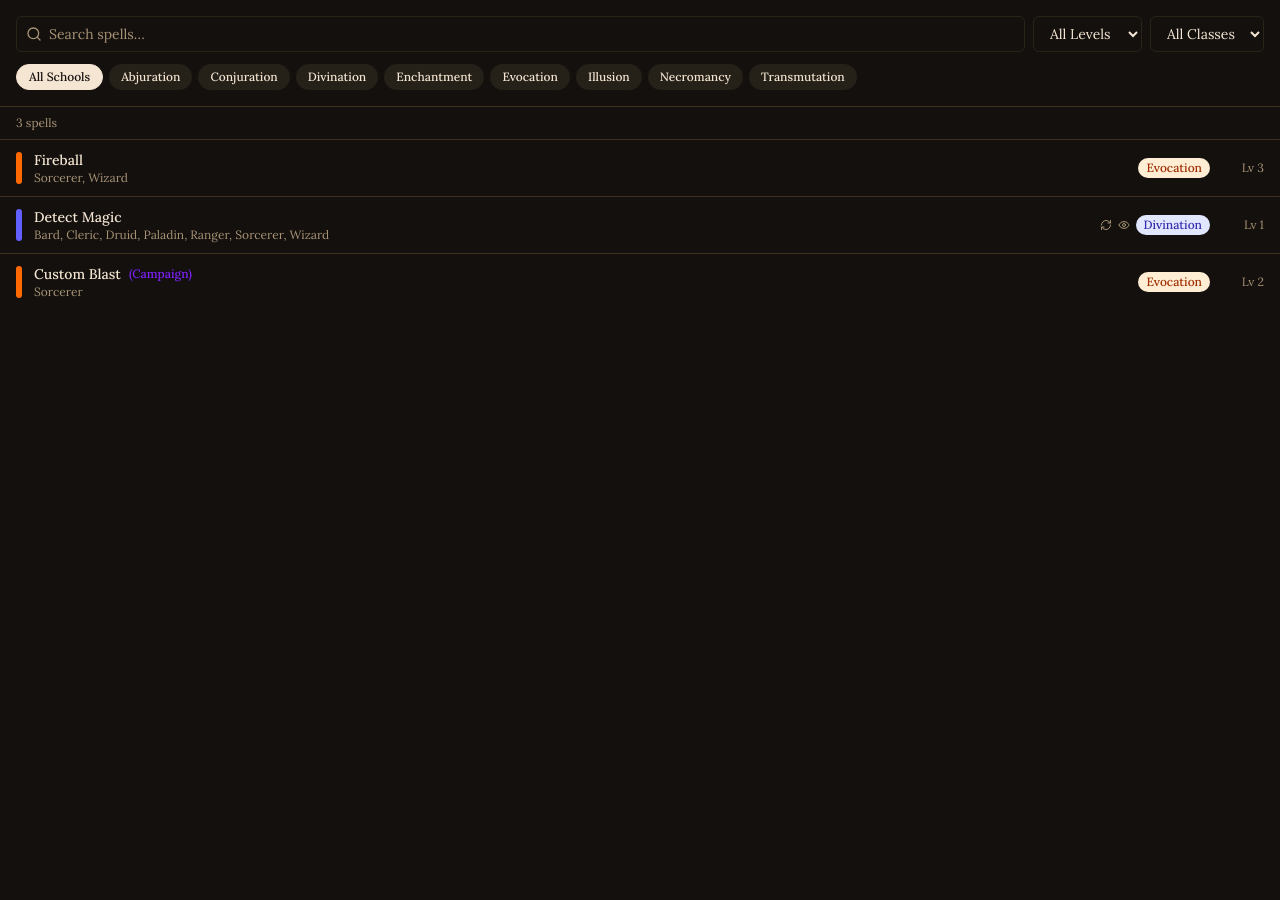
Test case: SpellsTab › shows Override button for system spells when GM
Expected: the text "Fireball" is shown, [34,150,83,170]
Click the button with test id "spell-row-1": click(58, 160) [0,140,1279,197]
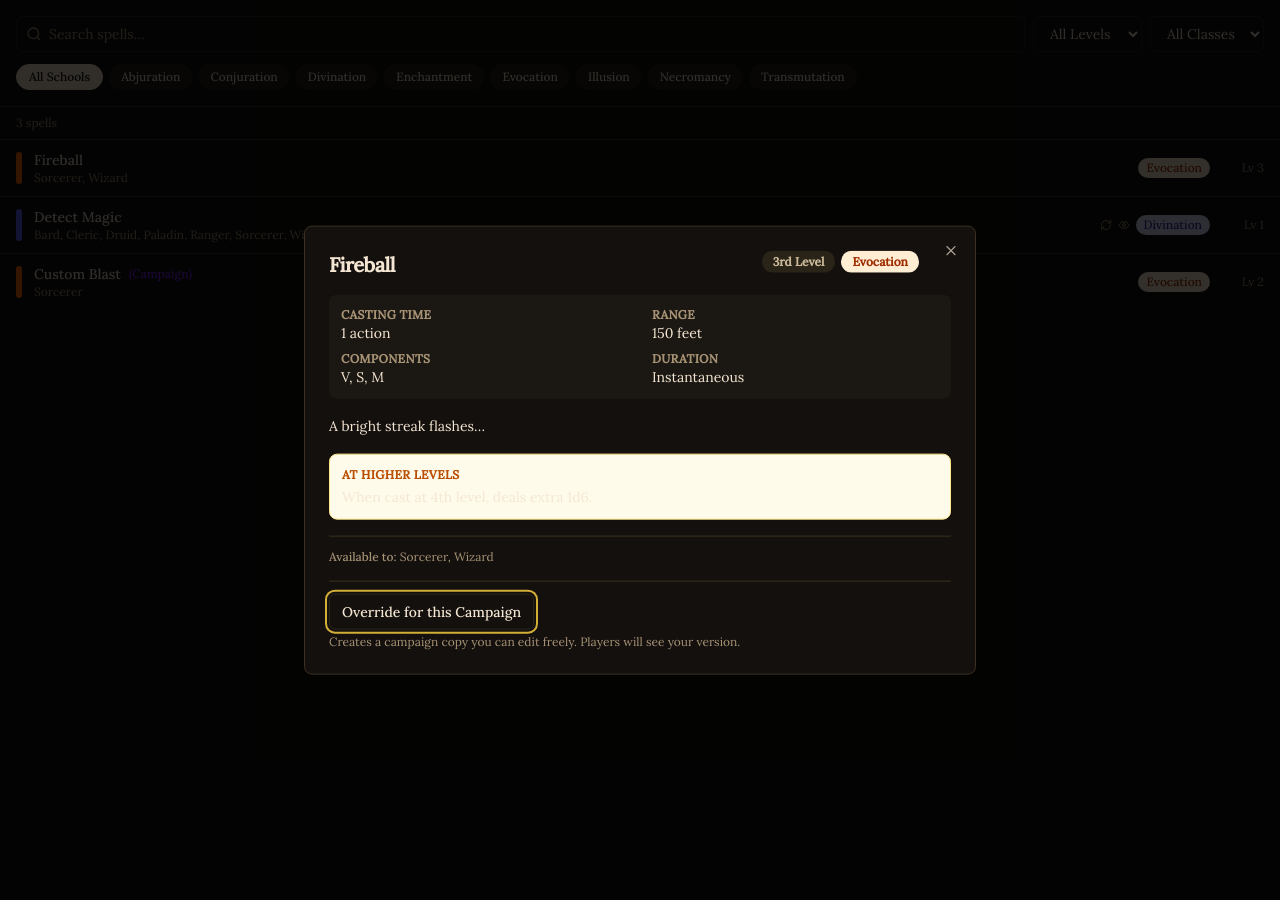
Now the button with test id "override-spell-btn" is shown, box [329,593,534,629]
